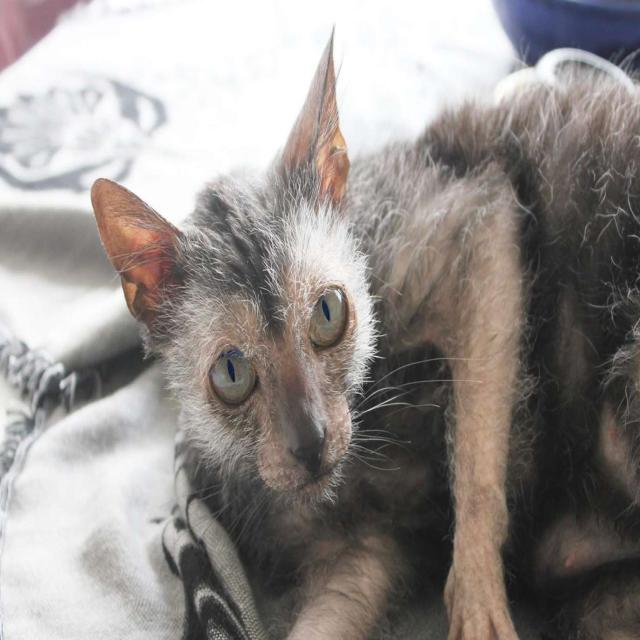Lykoi: (86, 15, 640, 640)
